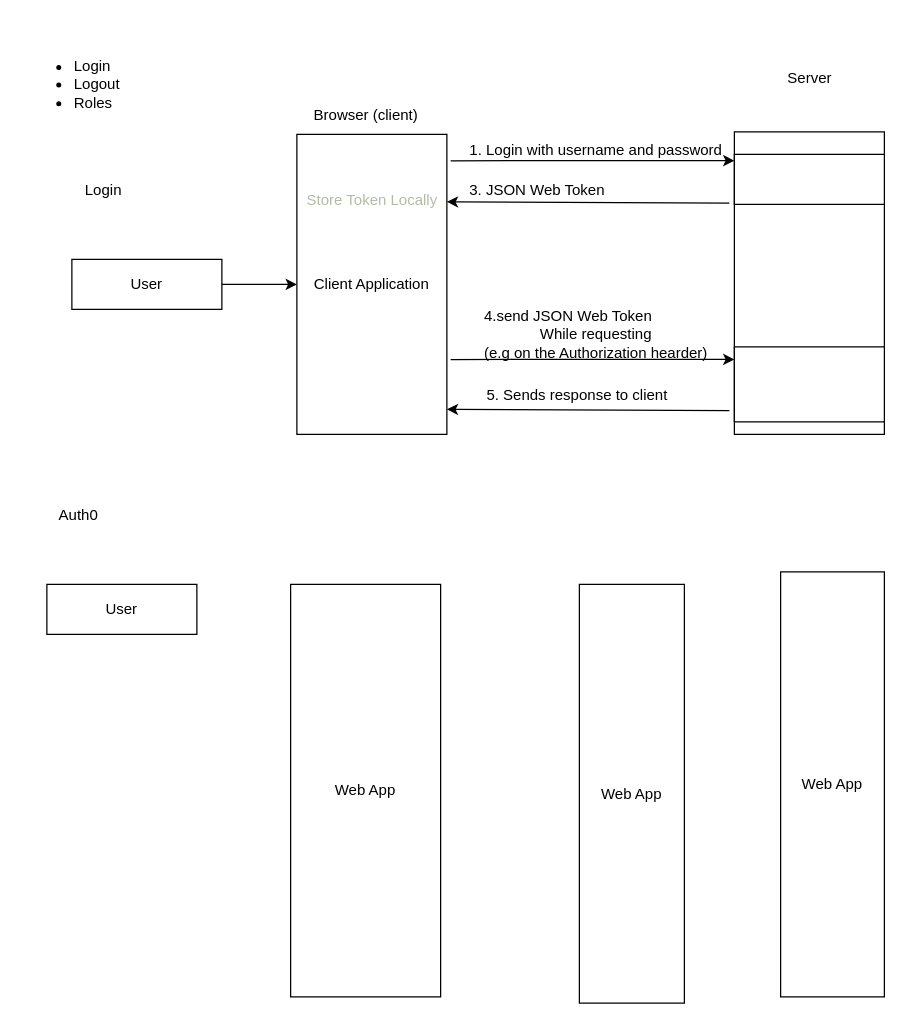
Image size: 906x1025. Some labels were removed from this diagram. The box of each missing label's shape, as (x1, y1, x2, y2) in pixels:
2. Generate a JWT with secret: (733, 153, 884, 204)
5. Checks the JWT Signature. Gets user information from the JWT: (733, 346, 884, 422)
